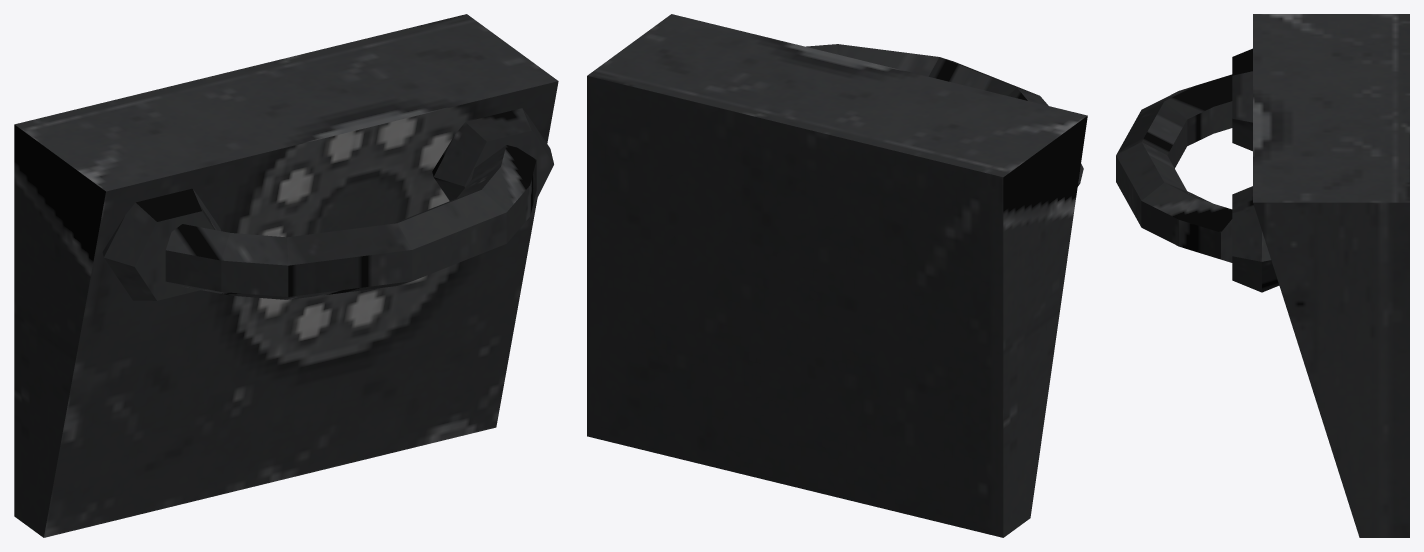
The model's file is pz_phone_rotary_black.obj.
The picture shows the model from 3 angles, left to right: view 1: azimuth 30°, elevation 25°; view 2: azimuth 150°, elevation 25°; view 3: azimuth 270°, elevation 25°; orthographic projection. The views are drawn at different scales.
Visible parts, largest first — view 1: pz_phone_rotary_black_|_simple_sloped_base, pz_phone_rotary_black_|_EDITABLE_low-poly_curved_handset, pz_phone_rotary_black_|_low-poly_receiver_end_0, pz_phone_rotary_black_|_low-poly_receiver_end_1; view 2: pz_phone_rotary_black_|_simple_sloped_base, pz_phone_rotary_black_|_EDITABLE_low-poly_curved_handset; view 3: pz_phone_rotary_black_|_simple_sloped_base, pz_phone_rotary_black_|_EDITABLE_low-poly_curved_handset, pz_phone_rotary_black_|_low-poly_receiver_end_1, pz_phone_rotary_black_|_low-poly_receiver_end_0.
Boxes of the visible parts, x1,y1,x2,y2 form: pz_phone_rotary_black_|_simple_sloped_base: [14, 14, 558, 537]; pz_phone_rotary_black_|_EDITABLE_low-poly_curved_handset: [165, 145, 536, 299]; pz_phone_rotary_black_|_low-poly_receiver_end_0: [102, 188, 220, 300]; pz_phone_rotary_black_|_low-poly_receiver_end_1: [432, 108, 553, 207]; pz_phone_rotary_black_|_simple_sloped_base: [587, 14, 1087, 537]; pz_phone_rotary_black_|_EDITABLE_low-poly_curved_handset: [806, 44, 1048, 105]; pz_phone_rotary_black_|_simple_sloped_base: [1253, 14, 1409, 537]; pz_phone_rotary_black_|_EDITABLE_low-poly_curved_handset: [1116, 74, 1232, 262]; pz_phone_rotary_black_|_low-poly_receiver_end_1: [1232, 186, 1279, 292]; pz_phone_rotary_black_|_low-poly_receiver_end_0: [1232, 48, 1252, 151].
Size of the model in its own units: 0.302 by 0.25 by 0.1986.
